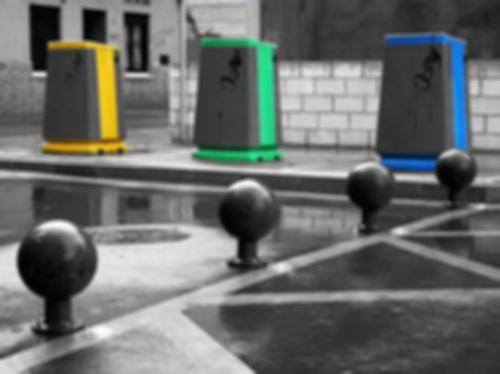Bote de Basura: (376, 33, 473, 172), (192, 38, 282, 160), (39, 36, 121, 153)
